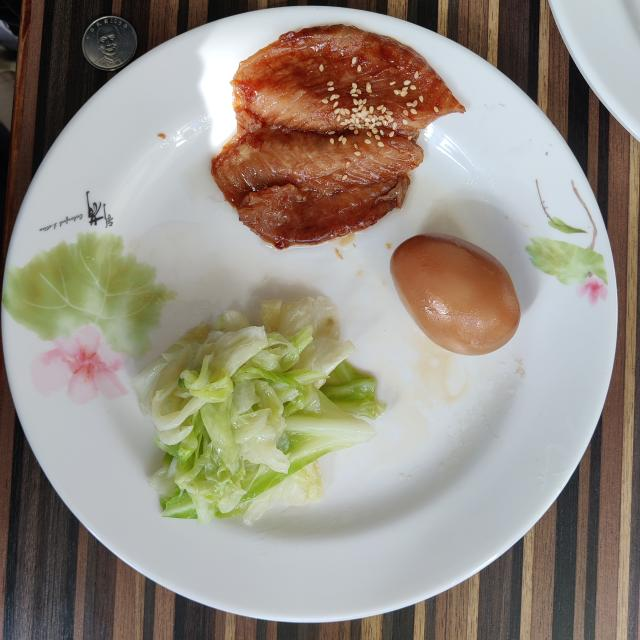Kabayaki sea bream fillet: (211, 25, 465, 249)
cabbage: (132, 296, 385, 524)
coin: (82, 16, 138, 71)
soy egg: (390, 234, 520, 355)
